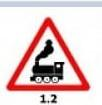road_sign: (7, 17, 89, 89)
